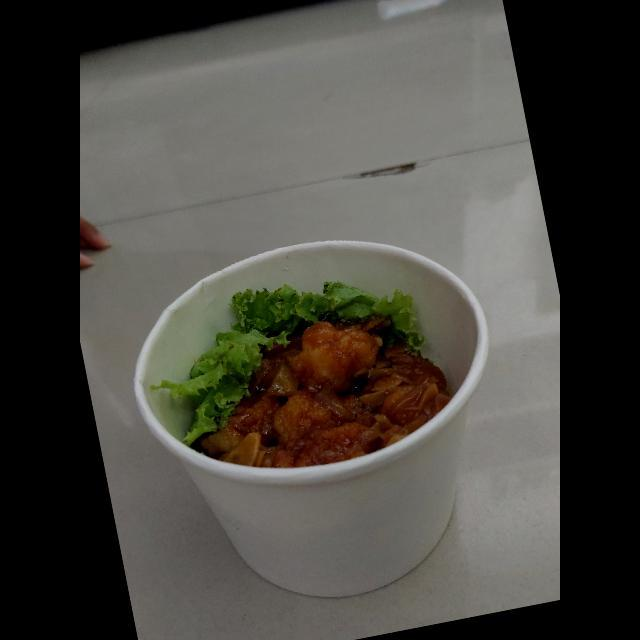rice-bowl: (96, 200, 540, 640)
